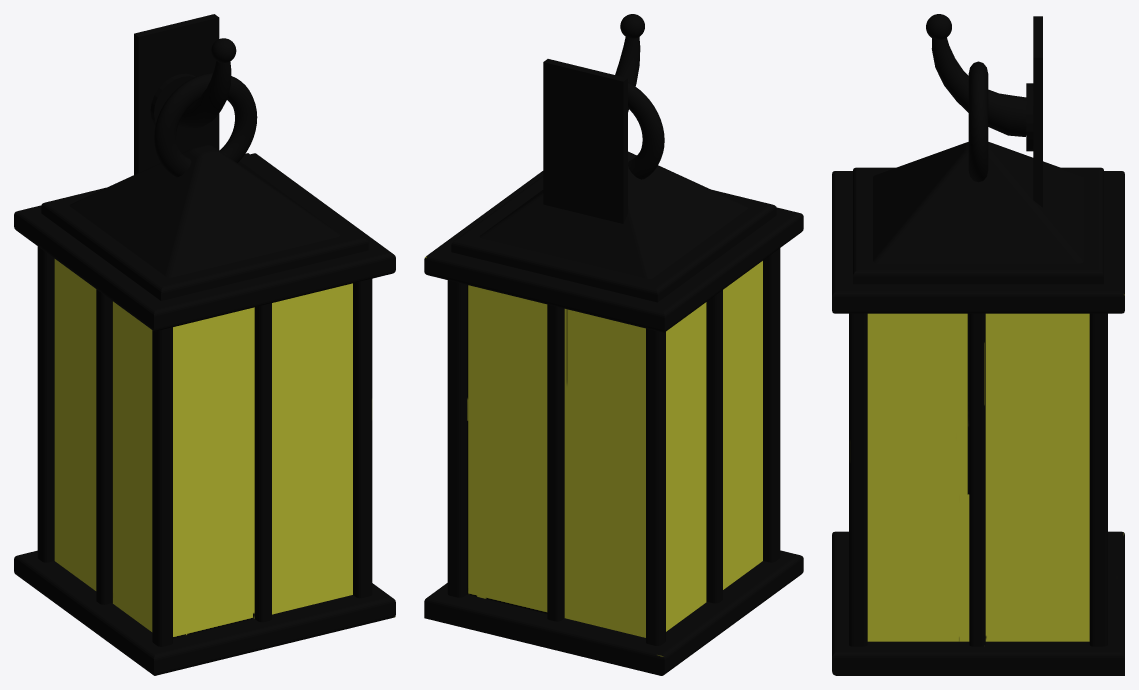
Rendered from FarolilloConAplique.fbx.
The picture shows the model from 3 angles, left to right: view 1: azimuth 30°, elevation 25°; view 2: azimuth 150°, elevation 25°; view 3: azimuth 270°, elevation 25°; orthographic projection. The views are drawn at different scales.
Visible parts, largest first — view 1: Farolillo.001, BaseAgarrePared, AgarreArriba, CilindroAgarre, BaseCircularPared; view 2: Farolillo.001, BaseAgarrePared, AgarreArriba, CilindroAgarre; view 3: Farolillo.001, CilindroAgarre, AgarreArriba, BaseAgarrePared, BolaAgarre, BaseCircularPared.
Part boxes in pixels (box(x1,y1,x2,y2)): Farolillo.001: box(14, 145, 395, 675); BaseAgarrePared: box(134, 14, 219, 174); AgarreArriba: box(154, 73, 257, 177); CilindroAgarre: box(178, 61, 231, 128); BaseCircularPared: box(150, 73, 196, 136); Farolillo.001: box(424, 151, 803, 675); BaseAgarrePared: box(543, 59, 627, 223); AgarreArriba: box(628, 82, 664, 179); CilindroAgarre: box(615, 37, 640, 111); Farolillo.001: box(832, 142, 1124, 675); CilindroAgarre: box(931, 37, 1026, 136); AgarreArriba: box(968, 61, 988, 182); BaseAgarrePared: box(1033, 16, 1042, 207); BolaAgarre: box(926, 14, 951, 39); BaseCircularPared: box(1026, 83, 1033, 151).
Size of the model in its own units: 30 by 67.72 by 30.
Materials: 6 (6 with a texture image).
